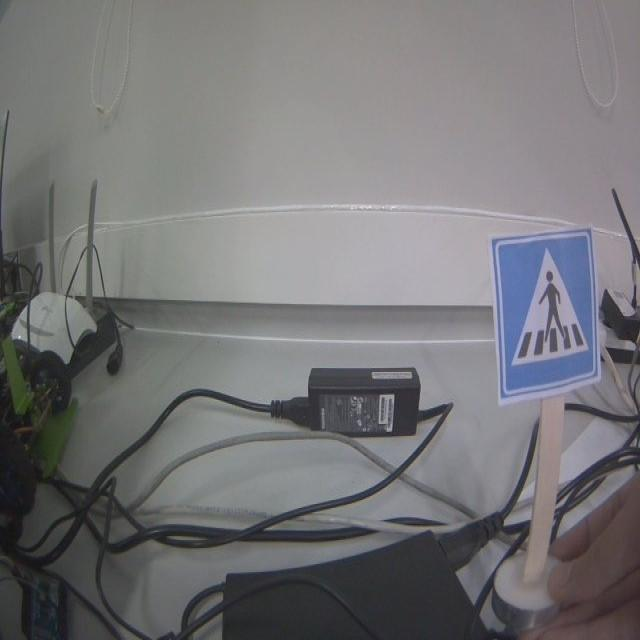Rambu Penyebrangan: (489, 227, 599, 404)
